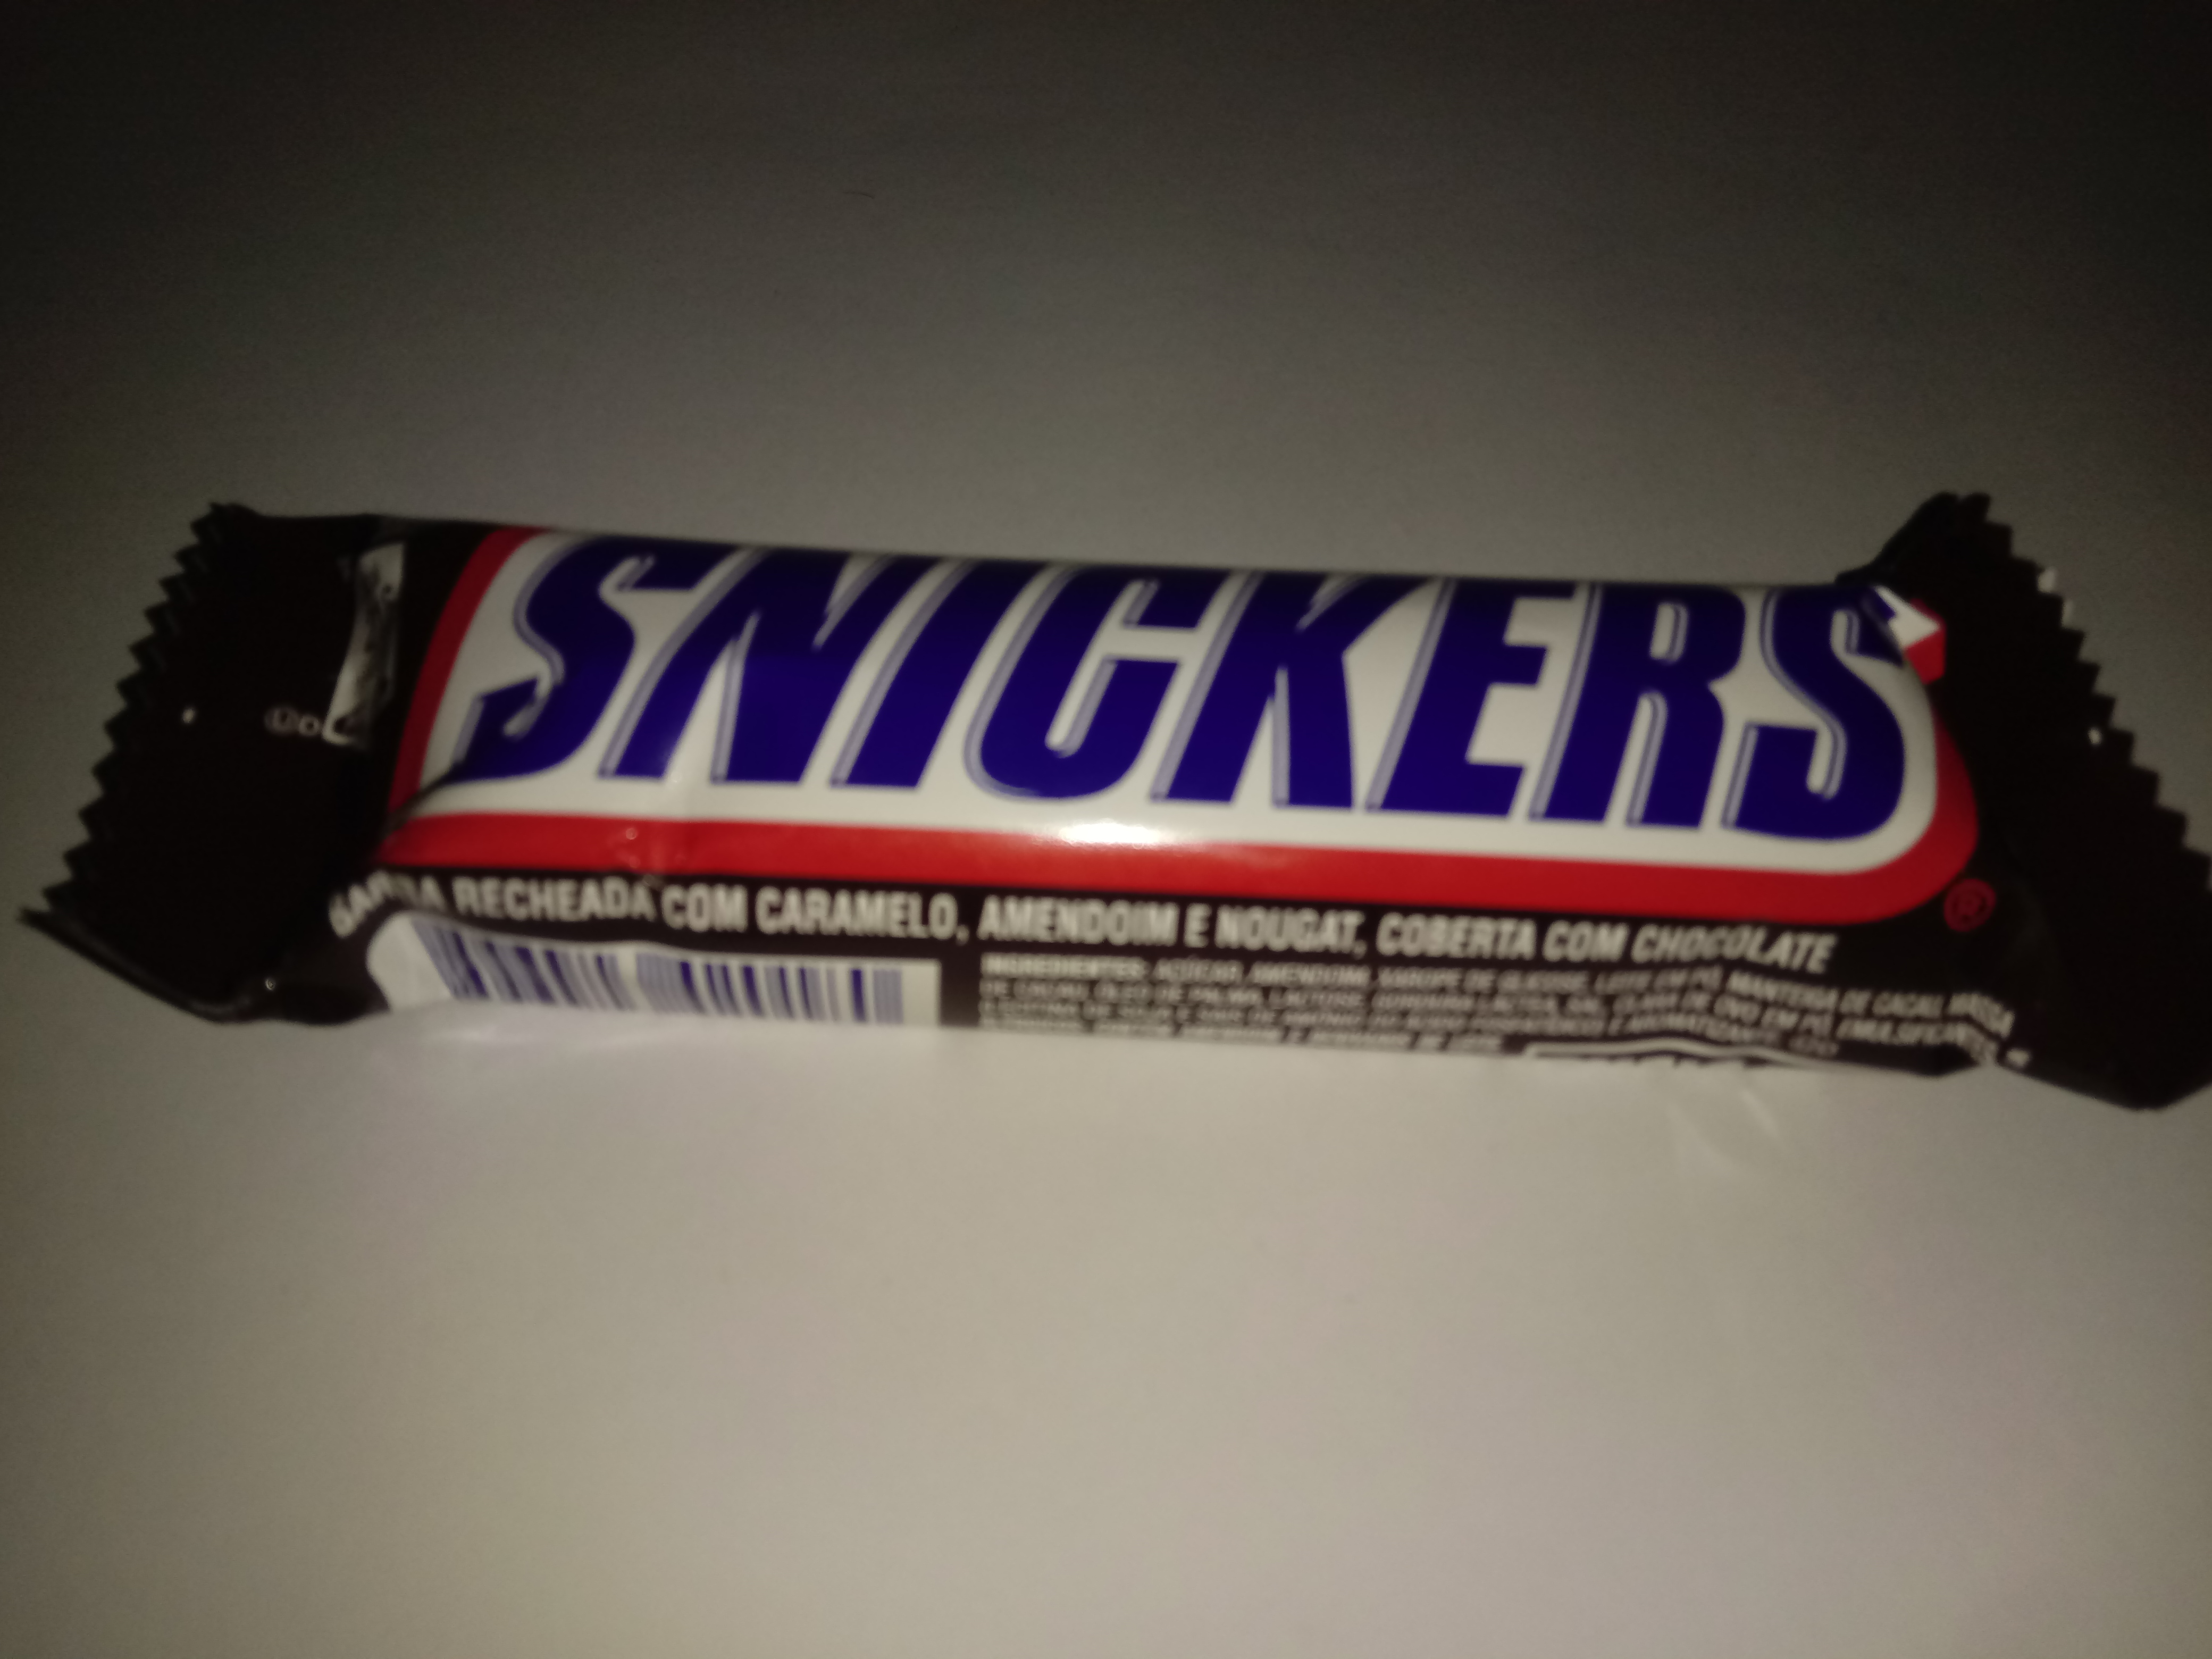snickers: (47, 474, 2212, 1119)
